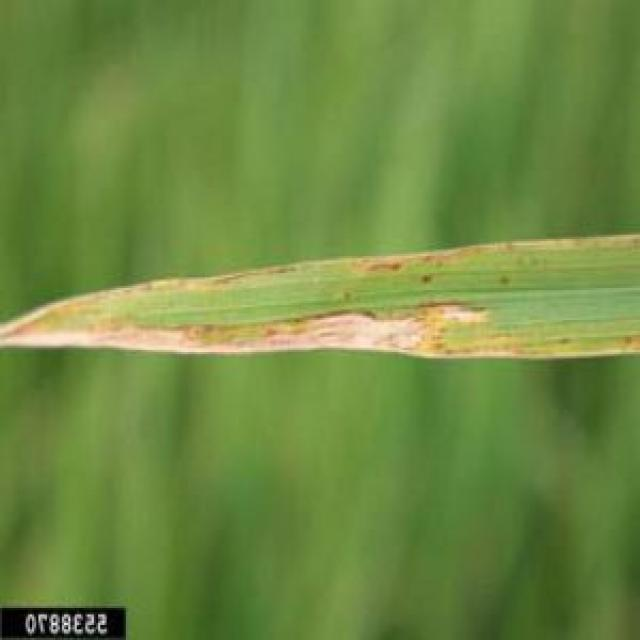leaf blight: (2, 233, 640, 356)
